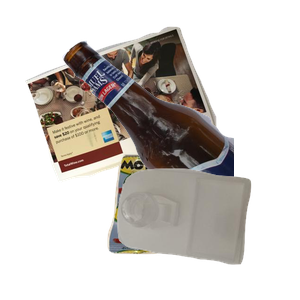glass: (60, 38, 300, 218)
paper: (23, 24, 232, 199)
plastic: (115, 166, 300, 300)
trash: (105, 152, 280, 300)
